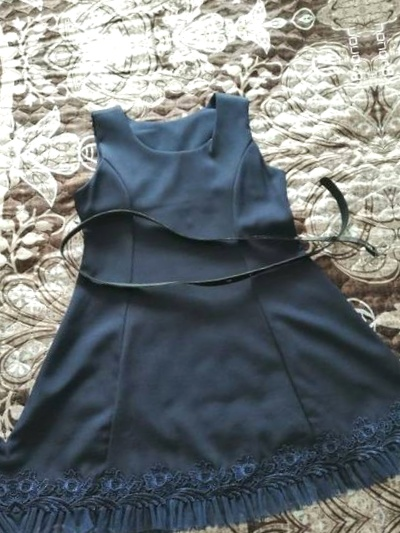Dress: (0, 61, 400, 533), (0, 0, 335, 23), (0, 123, 13, 533), (391, 0, 400, 493), (37, 523, 400, 533)
